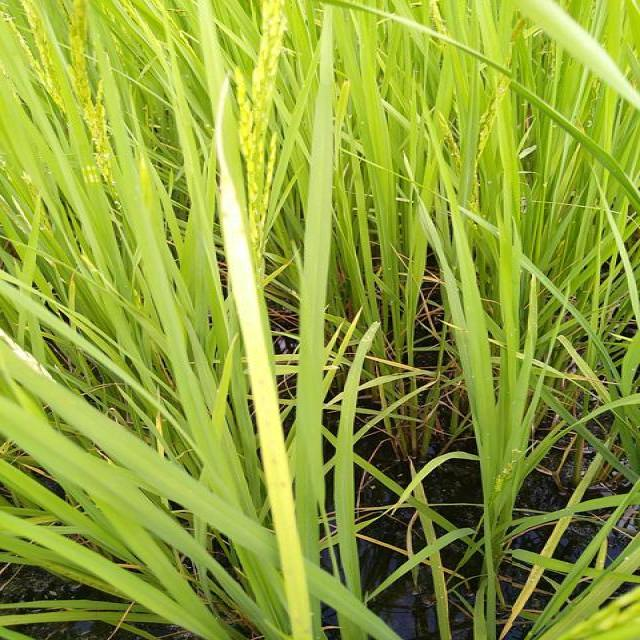Leaf Blight: (219, 112, 284, 465)
